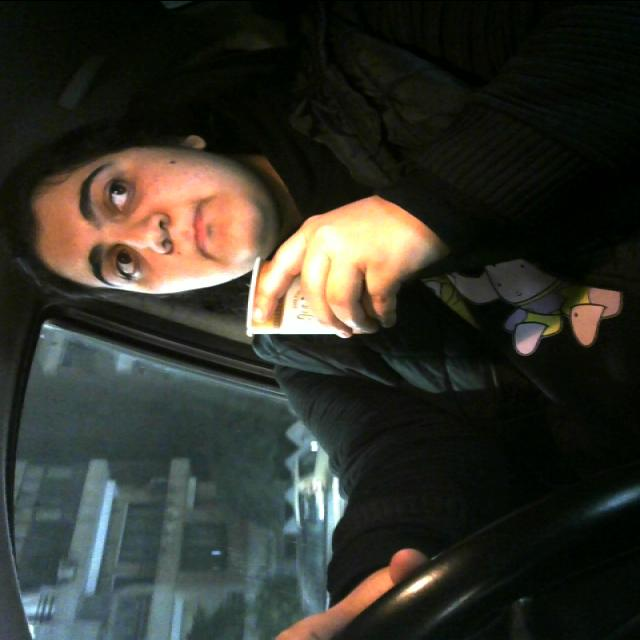drinking: (240, 256, 390, 346)
